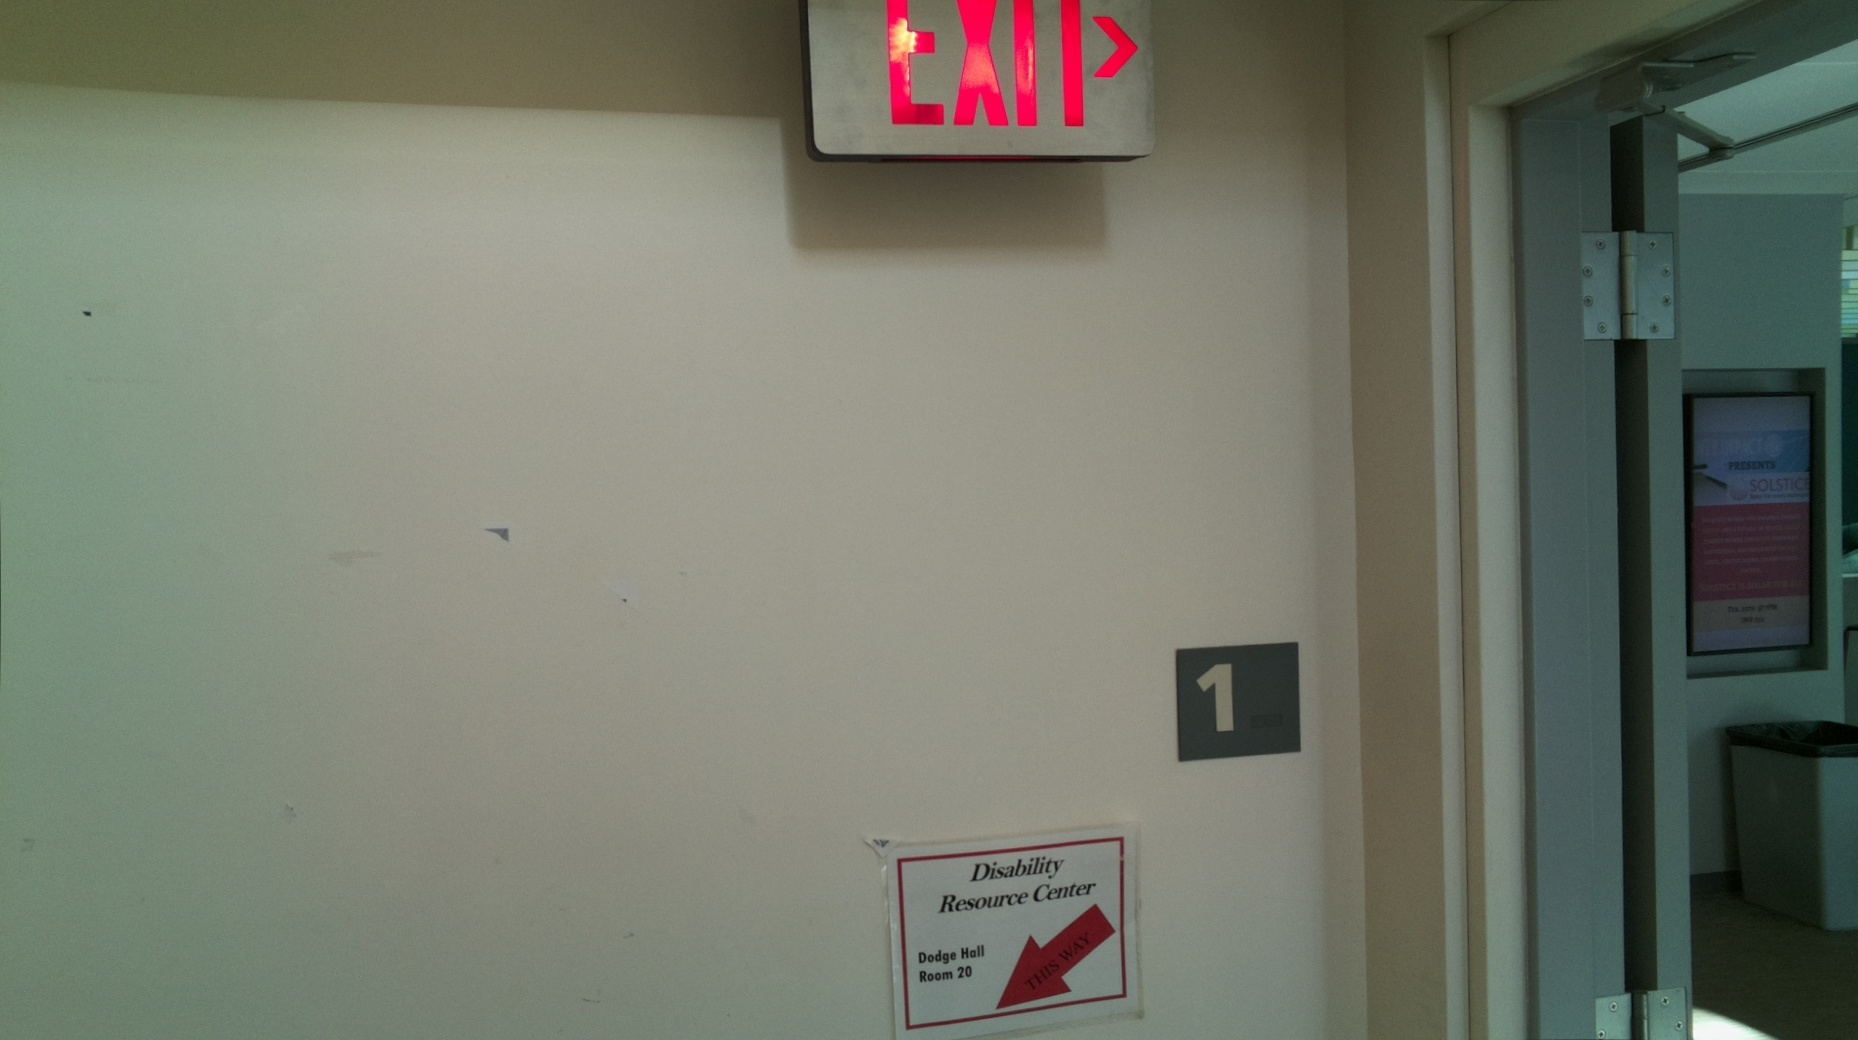exit sign: (790, 1, 1165, 175)
